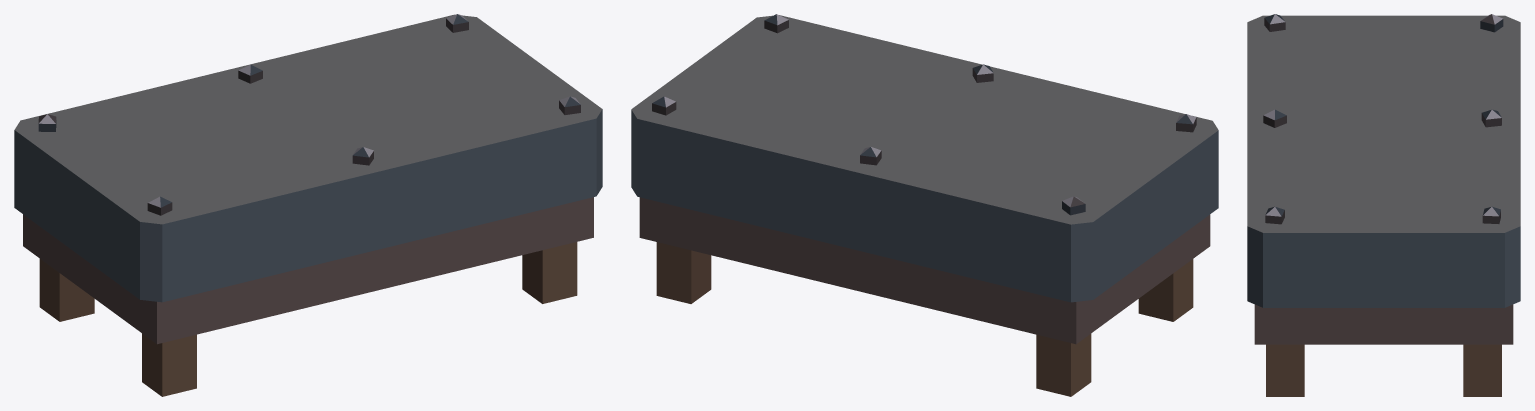
Rendered from TB_Prop_BlacksmithTable.FBX.
3 renders of one model, left to right at view 1: azimuth 30°, elevation 25°; view 2: azimuth 150°, elevation 25°; view 3: azimuth 270°, elevation 25°, orthographic. The views are drawn at different scales.
Visible parts, largest first — view 1: TB_Prop_BlacksmithTable; view 2: TB_Prop_BlacksmithTable; view 3: TB_Prop_BlacksmithTable.
Boxes of the visible parts, x1,y1,x2,y2 form: TB_Prop_BlacksmithTable: [14, 14, 602, 396]; TB_Prop_BlacksmithTable: [631, 14, 1218, 396]; TB_Prop_BlacksmithTable: [1247, 14, 1520, 396].
Bounding box in the file's own units: 2.66 × 1.08 × 1.42.
